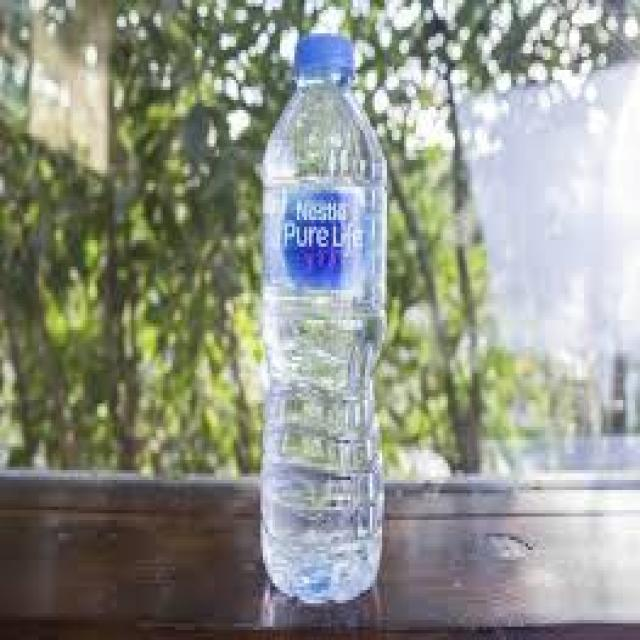bottle: (230, 0, 410, 615)
